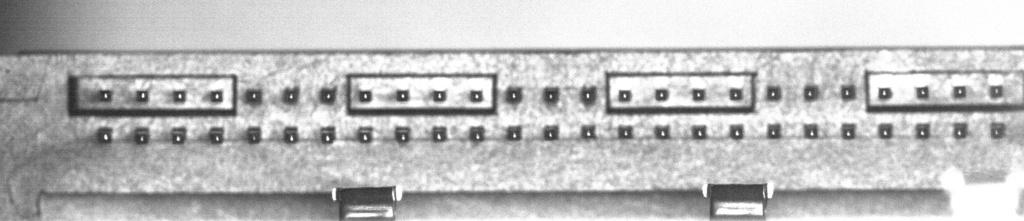pin_ok: (542, 86, 560, 103), (580, 86, 597, 103), (505, 86, 523, 102), (97, 128, 113, 145), (283, 126, 299, 143), (320, 126, 336, 143), (208, 127, 224, 144), (394, 126, 411, 142), (319, 87, 336, 103), (989, 121, 1005, 138), (469, 125, 485, 141), (431, 126, 447, 142), (506, 125, 522, 141), (357, 127, 373, 143), (840, 84, 856, 100), (841, 123, 857, 139), (246, 126, 261, 143), (134, 127, 149, 144), (171, 127, 186, 144), (282, 87, 299, 102), (803, 85, 820, 100), (244, 88, 261, 103), (543, 125, 559, 140), (728, 87, 744, 102), (878, 123, 893, 139), (915, 123, 930, 139), (617, 125, 634, 139), (729, 124, 744, 139), (692, 124, 707, 139), (655, 124, 670, 139), (581, 124, 596, 139), (766, 85, 781, 100), (804, 123, 819, 138), (953, 124, 968, 139), (767, 123, 781, 138), (691, 87, 706, 101), (915, 85, 930, 99), (470, 89, 484, 103), (395, 88, 410, 101), (432, 89, 447, 102), (617, 89, 632, 102), (877, 87, 892, 100), (655, 88, 669, 101), (358, 89, 372, 102), (209, 89, 223, 102), (953, 85, 967, 98), (135, 89, 149, 102), (989, 85, 1003, 98), (173, 89, 186, 102), (98, 89, 112, 101)
